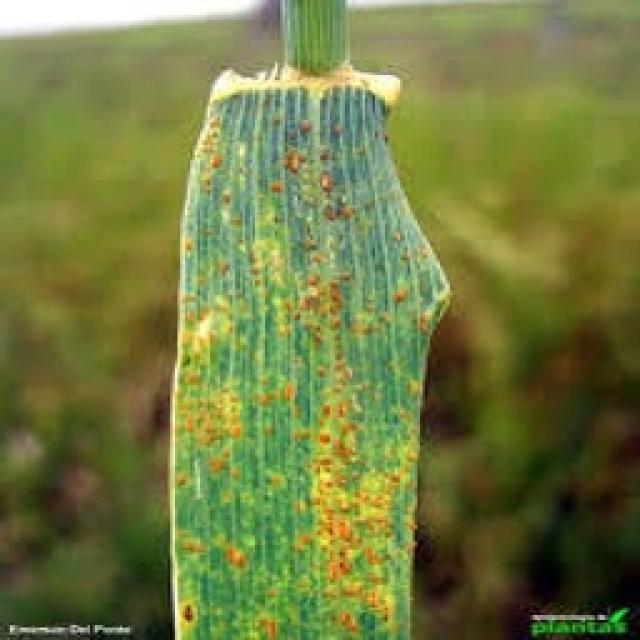Yellow Rust: (165, 60, 450, 638)
